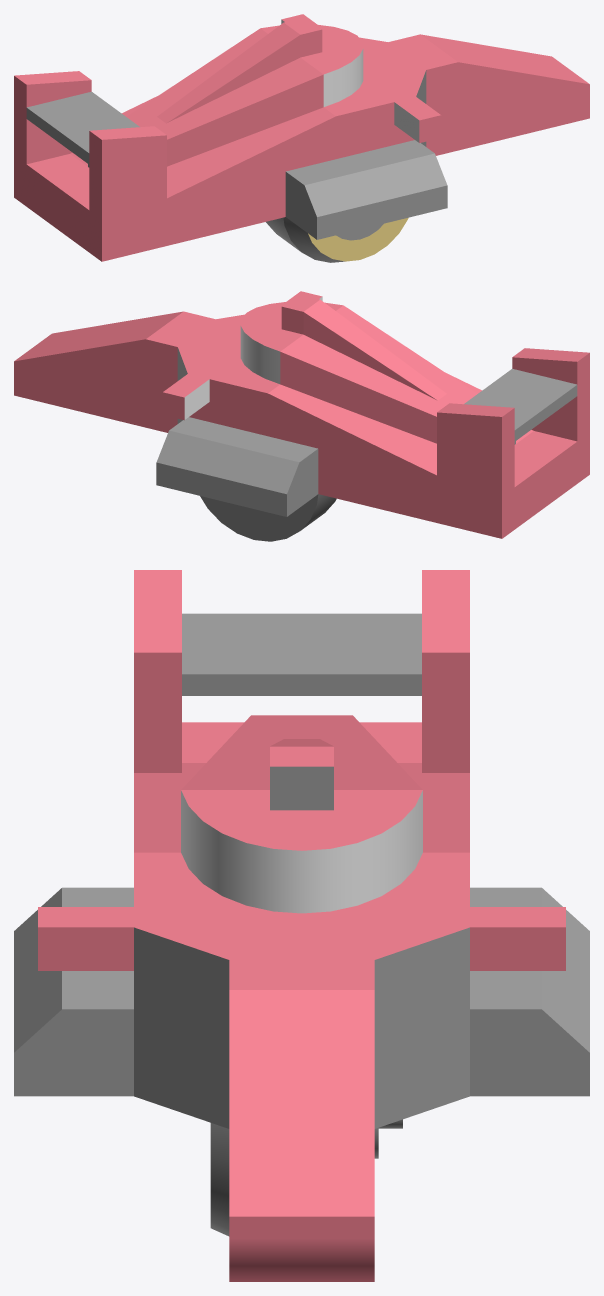
File: SM_RaceMesh.fbx
3 renders of one model, top to bottom at view 1: azimuth 30°, elevation 25°; view 2: azimuth 150°, elevation 25°; view 3: azimuth 270°, elevation 25°, orthographic. The views are drawn at different scales.
Visible parts, largest first — view 1: race, race.001; view 2: race, race.001; view 3: race, race.001.
Part boxes in pixels (<box>): race: <box>14,14,589,261</box>; race.001: <box>266,217,408,262</box>; race: <box>14,291,589,538</box>; race.001: <box>200,494,336,541</box>; race: <box>14,570,589,1281</box>; race.001: <box>210,1119,402,1236</box>.
Size of the model in its own units: 177 by 77.44 by 90.
